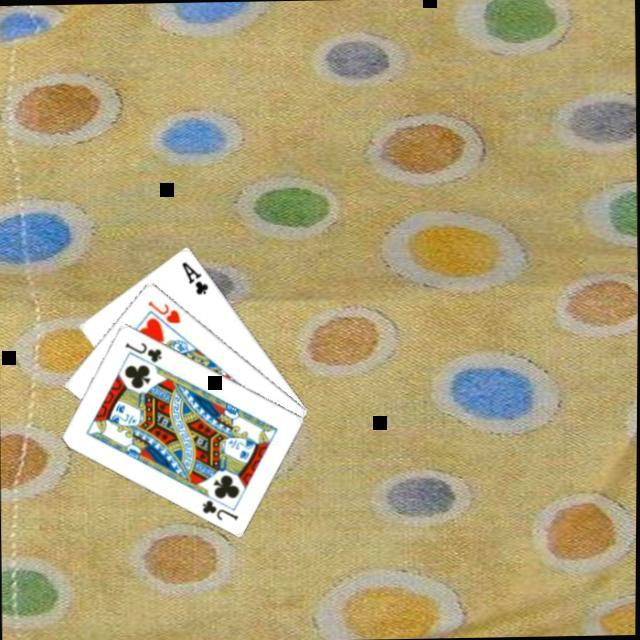AC: (179, 258, 212, 299)
JC: (200, 497, 242, 526), (123, 340, 166, 367)
JH: (145, 297, 184, 328)
